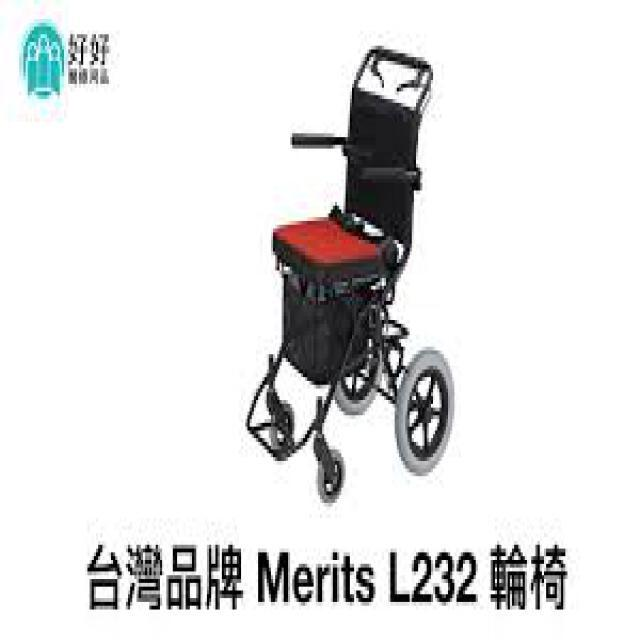wheelchair: (196, 19, 467, 518)
